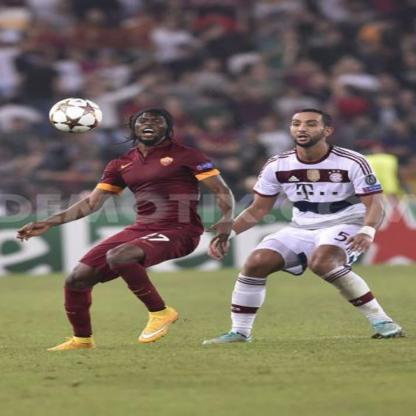face: (133, 111, 171, 143), (290, 111, 322, 146)
